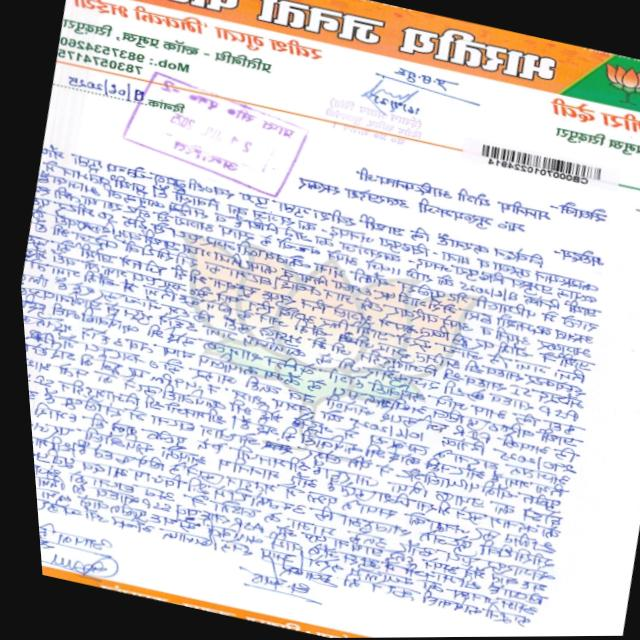antritgovtstamp: (107, 68, 304, 190)
barcode: (467, 138, 608, 196)
signnamestamp: (298, 60, 449, 157)
